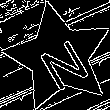N_NW: (28, 25, 90, 89)
